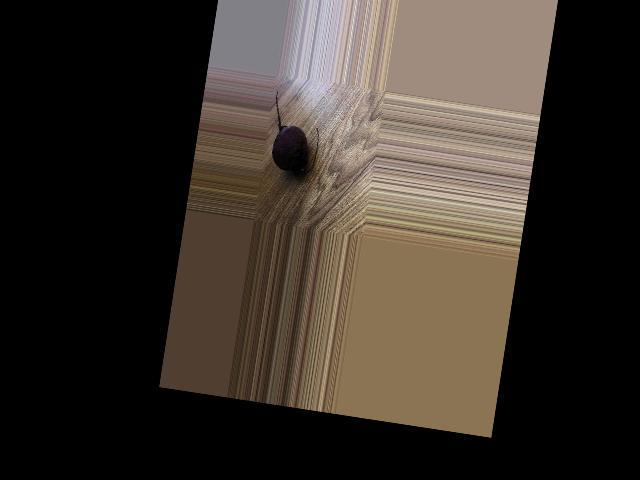beet: (264, 91, 324, 177)
